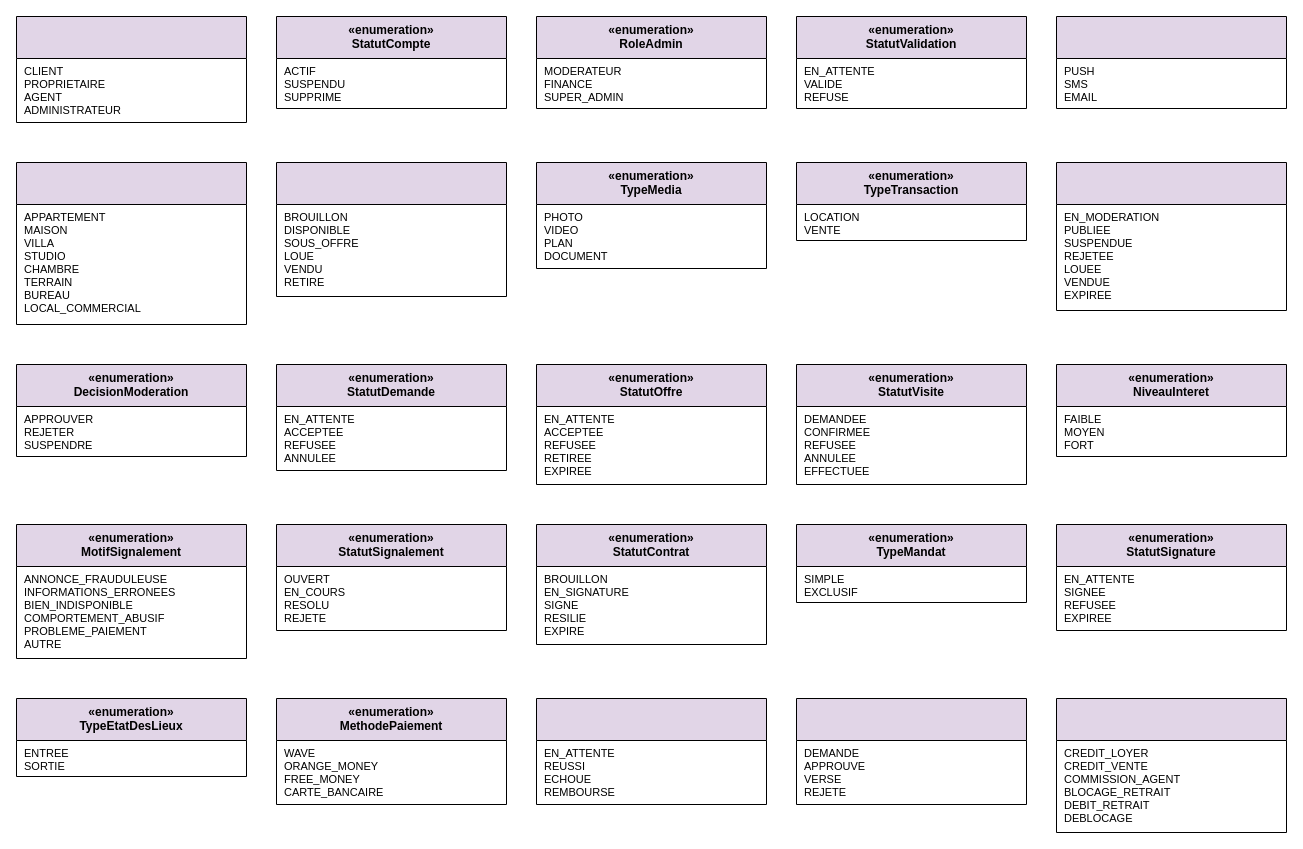
The diagram is 1303 pixels wide and 849 high, and some of its shapes have lost their labels. Each missing label, with the box of its shape:
«enumeration» CanalNotification: (1056, 16, 1286, 108)
«enumeration» Role: (16, 16, 246, 122)
«enumeration» StatutAnnonce: (1056, 162, 1286, 310)
«enumeration» StatutBien: (276, 162, 506, 296)
«enumeration» StatutPaiement: (536, 698, 766, 804)
«enumeration» StatutRetrait: (796, 698, 1026, 804)
«enumeration» TypeBien: (16, 162, 246, 324)
«enumeration» TypeEcriture: (1056, 698, 1286, 832)
